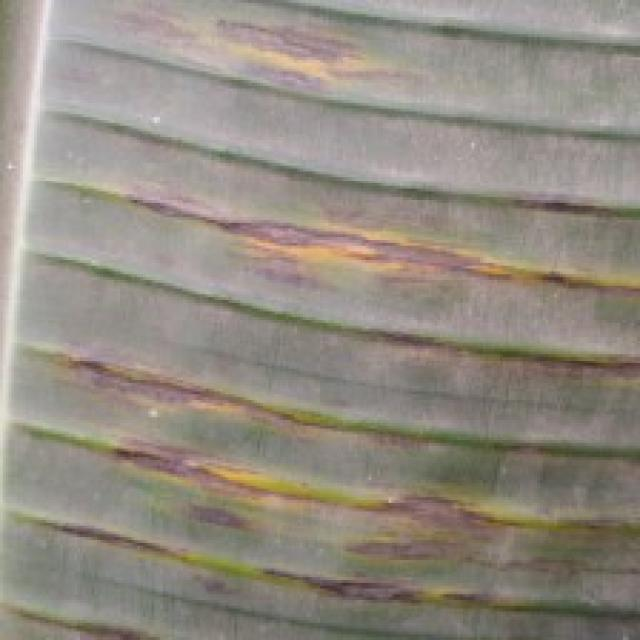Early_leaf_spot: (114, 161, 638, 308), (276, 532, 640, 634), (49, 331, 351, 446), (117, 0, 429, 103), (328, 472, 640, 573), (76, 424, 334, 540), (380, 303, 640, 414), (0, 556, 197, 640), (19, 504, 243, 575)
